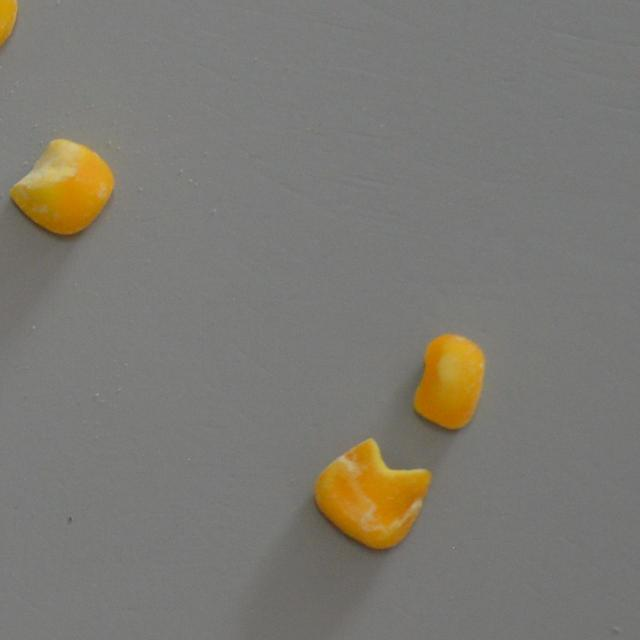no_canjicado: (8, 136, 115, 238), (411, 333, 486, 430), (0, 0, 17, 66)
pelicula: (314, 436, 432, 552)
